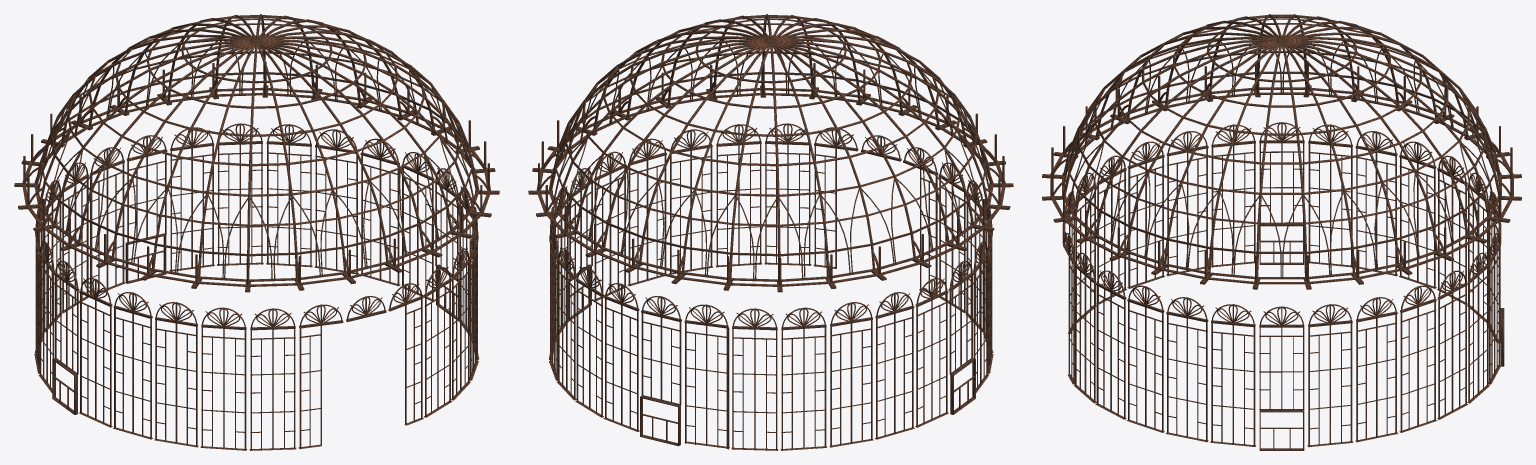
The model's file is Greenhouse_Body02.FBX.
3 renders of one model, left to right at view 1: azimuth 30°, elevation 25°; view 2: azimuth 150°, elevation 25°; view 3: azimuth 270°, elevation 25°, orthographic.
Visible parts, largest first — view 1: Greenhouse_Body02; view 2: Greenhouse_Body02; view 3: Greenhouse_Body02.
Boxes of the visible parts, x1,y1,x2,y2 form: Greenhouse_Body02: [14, 14, 499, 450]; Greenhouse_Body02: [528, 14, 1013, 450]; Greenhouse_Body02: [1042, 14, 1521, 450].
Size of the model in its own units: 9176 by 6694 by 9180.
